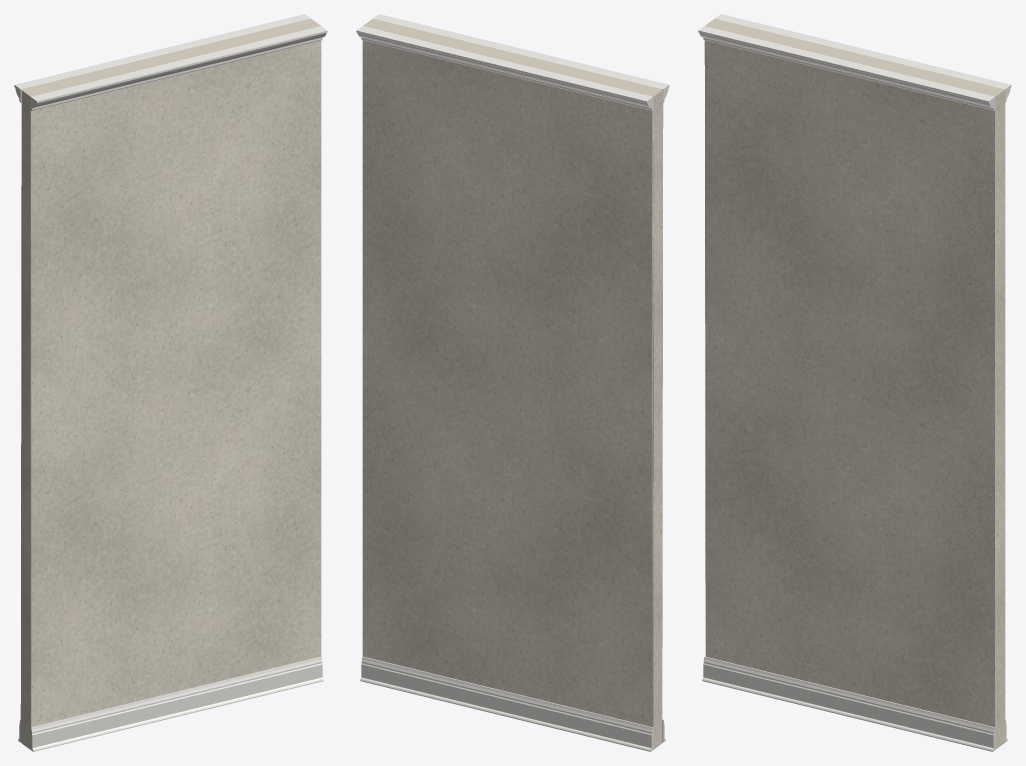
The model's file is interior_wall_plain.glb.
3 views of the same model, side by side, from view 1: azimuth 30°, elevation 25°; view 2: azimuth 150°, elevation 25°; view 3: azimuth 330°, elevation 25° (orthographic).
Parts seen in each view (by area): view 1: interior_wall_plain_plaster, molduras; view 2: interior_wall_plain_plaster, molduras; view 3: interior_wall_plain_plaster, molduras.
Boxes of the visible parts, box(x1,y1,x2,y2) form: interior_wall_plain_plaster: box(20, 18, 321, 749); molduras: box(14, 14, 327, 751); interior_wall_plain_plaster: box(362, 18, 663, 749); molduras: box(356, 14, 669, 751); interior_wall_plain_plaster: box(704, 19, 1005, 749); molduras: box(698, 14, 1011, 751).
Bounding box in the file's own units: 2 × 4.3 × 0.27.
2 materials, 1 textured.
